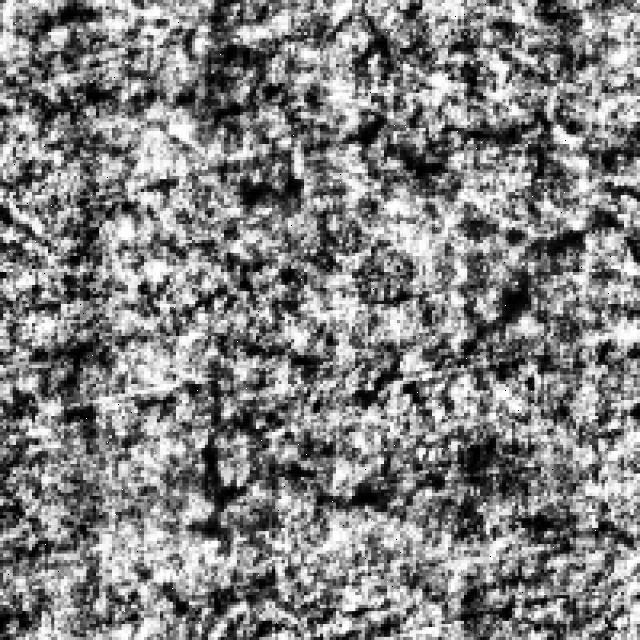Pitted_Surface: (156, 333, 438, 541), (160, 0, 403, 205)
